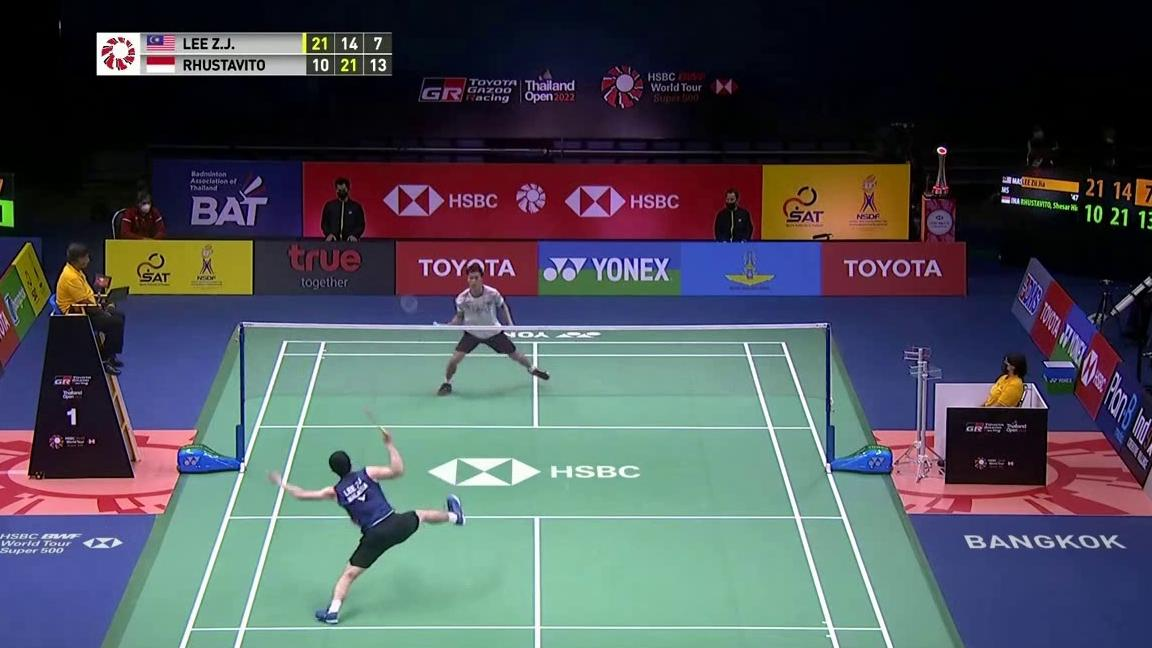racket: (399, 293, 447, 328), (360, 397, 386, 434)
shuttle: (455, 297, 464, 306)
